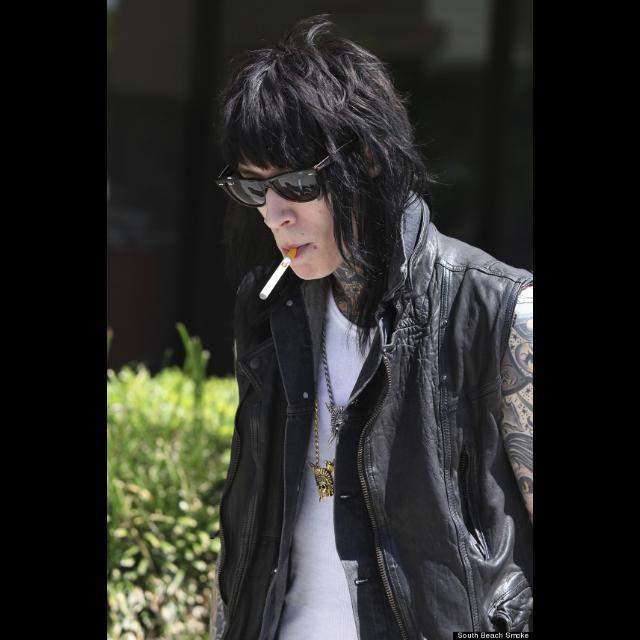rokok: (252, 242, 302, 302)
